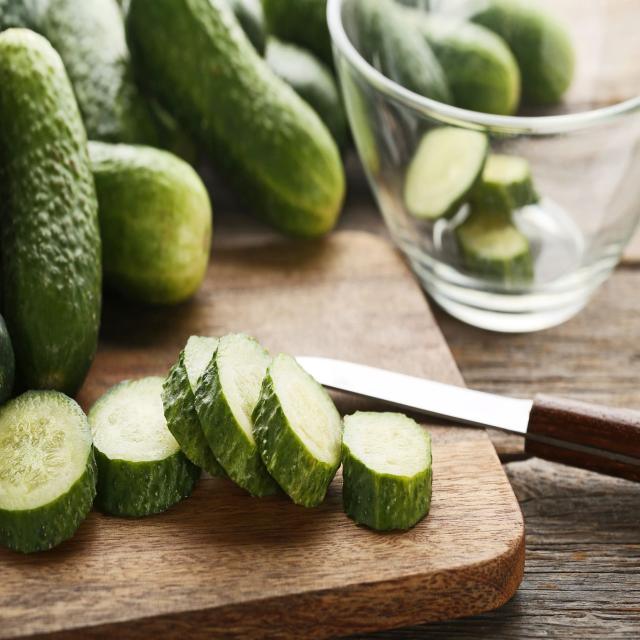Pickle: (126, 0, 345, 238), (0, 28, 101, 396), (88, 141, 212, 304), (0, 392, 98, 553), (88, 377, 200, 517), (251, 352, 342, 508), (195, 334, 279, 497), (410, 12, 521, 114), (342, 412, 432, 531), (161, 336, 228, 478), (404, 128, 488, 219)
